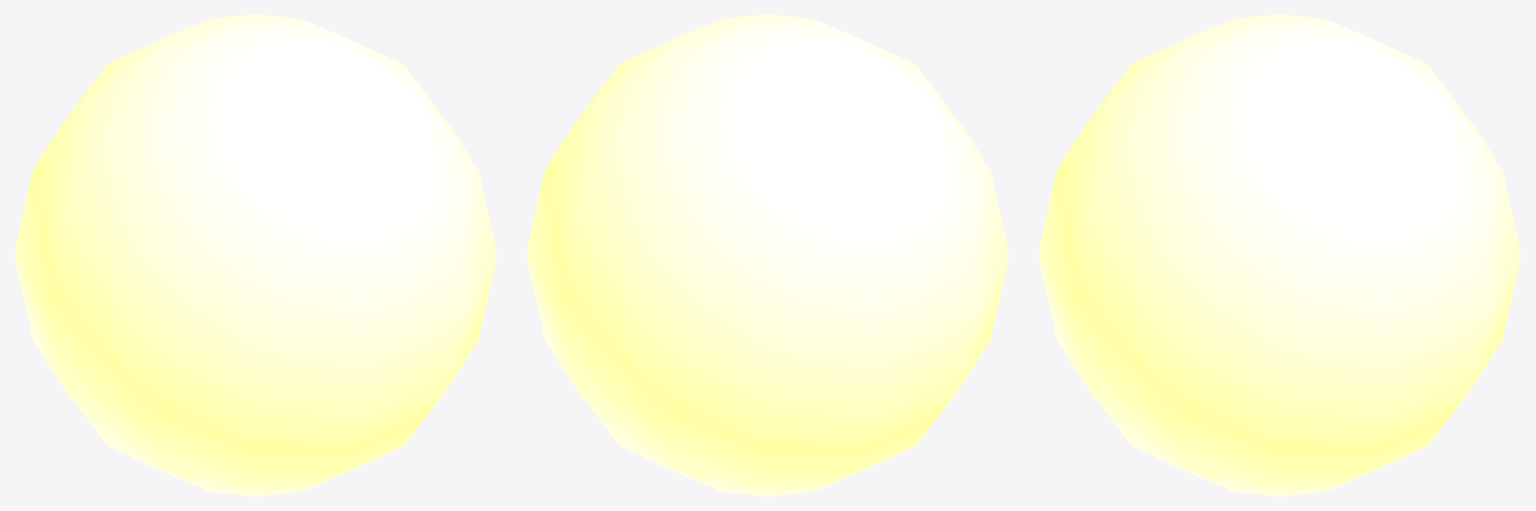
File: bolt.glb
3 renders of one model, left to right at view 1: azimuth 30°, elevation 25°; view 2: azimuth 150°, elevation 25°; view 3: azimuth 270°, elevation 25°, orthographic.
Parts seen in each view (by area): view 1: EmberBolt; view 2: EmberBolt; view 3: EmberBolt.
Part boxes in pixels (x1,y1,x2,y2): EmberBolt: [14, 14, 497, 496]; EmberBolt: [526, 14, 1009, 496]; EmberBolt: [1038, 14, 1521, 496].
Bounding box in the file's own units: 0.18 × 0.18 × 0.18.
